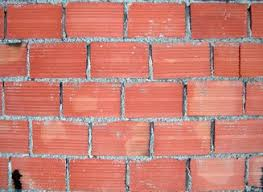brick: (5, 3, 63, 38), (189, 3, 247, 38), (91, 43, 149, 78), (153, 43, 211, 78), (127, 3, 186, 37), (33, 119, 87, 156), (64, 82, 121, 117), (66, 3, 124, 37), (125, 84, 182, 118), (92, 122, 149, 156), (6, 82, 60, 117), (191, 157, 245, 192), (188, 83, 243, 117), (155, 121, 211, 154), (69, 159, 125, 192), (129, 161, 188, 192), (30, 45, 86, 77), (214, 120, 263, 154), (1, 120, 29, 152), (1, 44, 28, 77), (242, 45, 263, 80), (216, 45, 238, 78), (247, 84, 263, 114), (251, 2, 262, 38)
